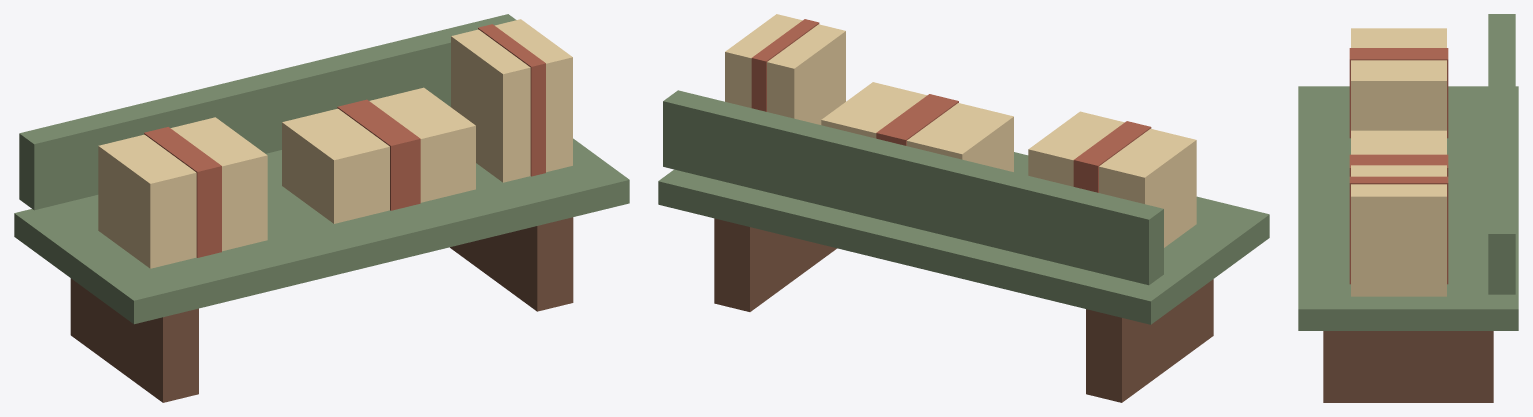
The model's file is parcel_bench.glb.
3 views of the same model, side by side, from view 1: azimuth 30°, elevation 25°; view 2: azimuth 150°, elevation 25°; view 3: azimuth 270°, elevation 25° (orthographic). The views are drawn at different scales.
Parts seen in each view (by area): view 1: parcel (×3), seat, backrest, folded_leg (×2), parcel_tape (×3); view 2: backrest, parcel (×3), seat, folded_leg (×2), parcel_tape (×3); view 3: seat, parcel (×3), folded_leg, backrest, parcel_tape (×3).
Boxes of the visible parts, x1,y1,x2,y2 form: parcel (×3): (98,19,572,268); seat: (14,138,629,324); backrest: (19,14,516,210); folded_leg (×2): (70,217,573,402); parcel_tape (×3): (144,24,545,257); backrest: (663,90,1163,285); parcel (×3): (725,14,1196,247); seat: (658,152,1269,324); folded_leg (×2): (714,218,1213,402); parcel_tape (×3): (751,19,1151,192); seat: (1298,86,1518,330); parcel (×3): (1351,28,1446,296); folded_leg: (1323,331,1493,402); backrest: (1488,14,1515,294); parcel_tape (×3): (1349,48,1448,284).
Bounding box in the file's own units: 2.2 × 0.985 × 0.92.
